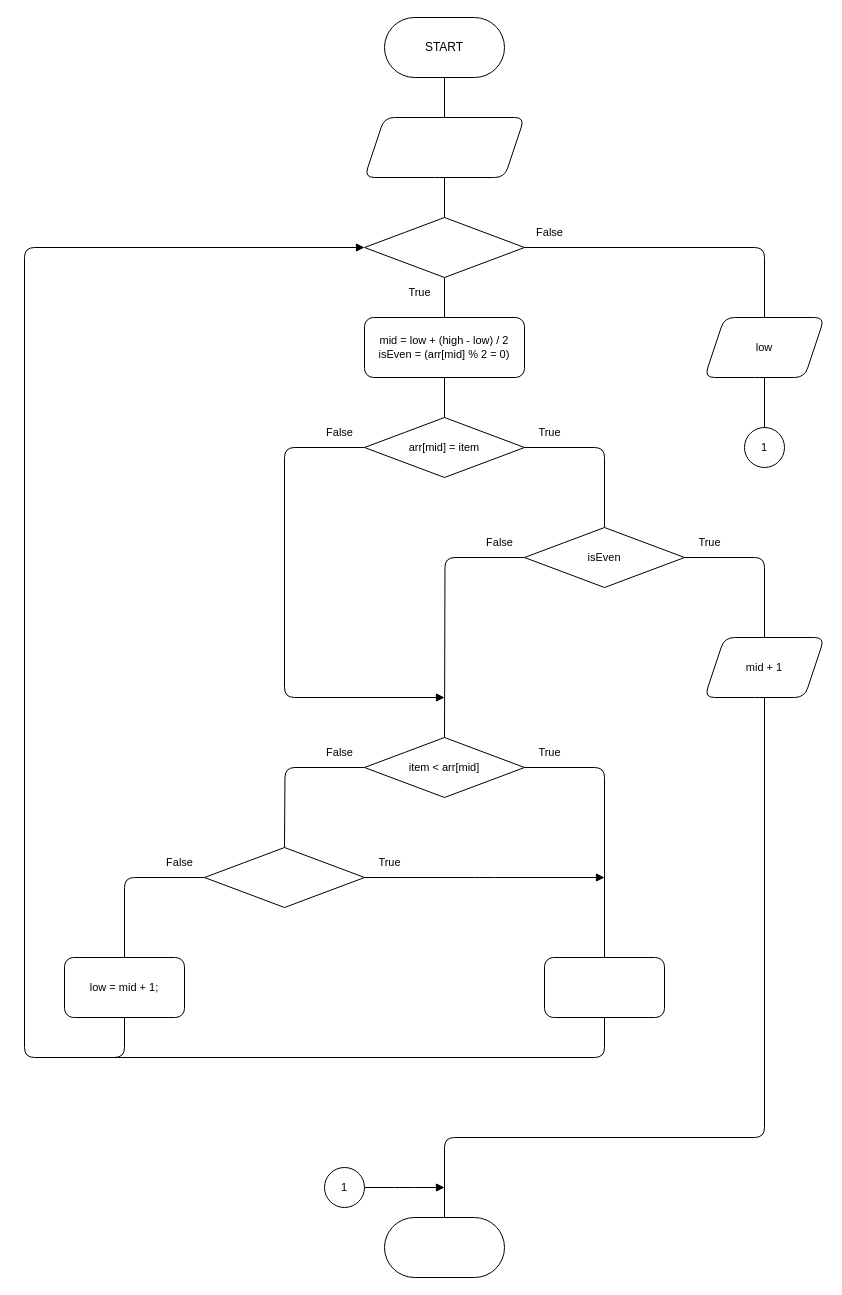
Some shapes in this 842 by 1295 pixel diagram are drawn without their labels. The shapes that lost their labels are listed below. From the top down, each one's box as (x1, y1, x2, y2) in pixels, then its label:
(364, 116, 524, 178): arr[n] item, low, high є N
(364, 216, 524, 278): low <= high
(204, 846, 364, 908): !isEven
(544, 956, 664, 1018): high = mid - 1
(384, 1216, 504, 1278): END
